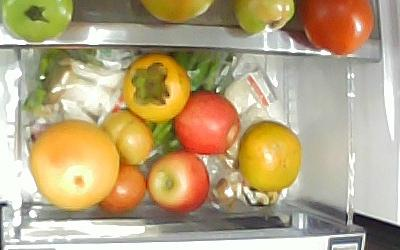apple: (175, 90, 241, 155), (148, 150, 210, 214)
grapefruit: (29, 119, 119, 211)
persimmon: (237, 121, 303, 194), (124, 53, 191, 122)
prune: (102, 110, 154, 165), (98, 161, 146, 214)
